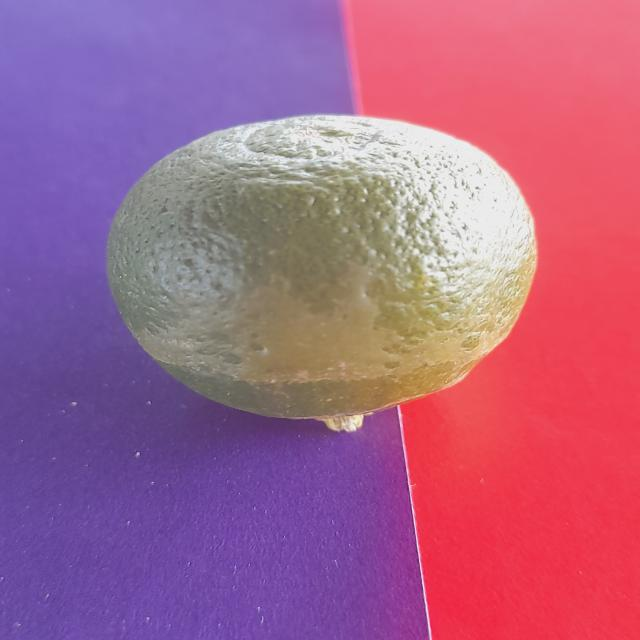thrips: (96, 130, 535, 442)
